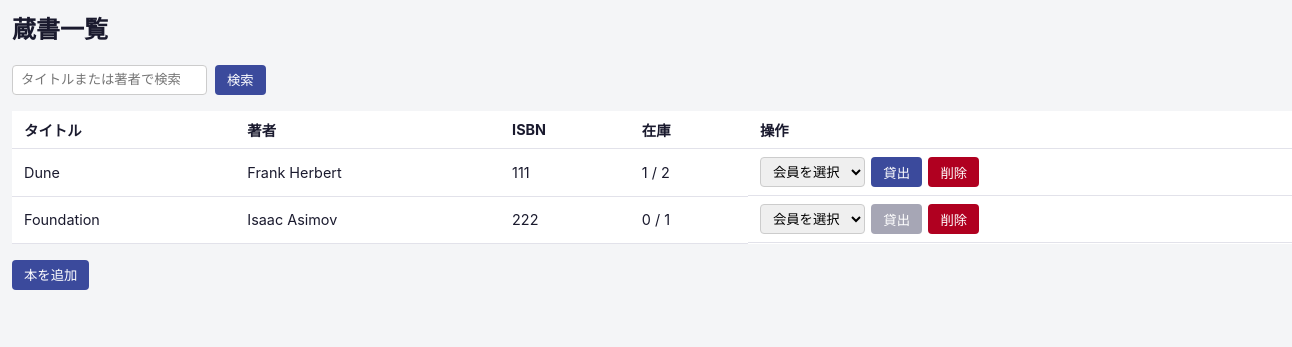
Test: BooksPage › shows a validation error when borrowing without selecting a member
The width and height of the screenshot is (1292, 347).
Expected: the text "Dune" is shown, [12,148,235,196]
Click the button "貸出" in the row of "Dune".
click(897, 172)  # box [871,157,922,187]
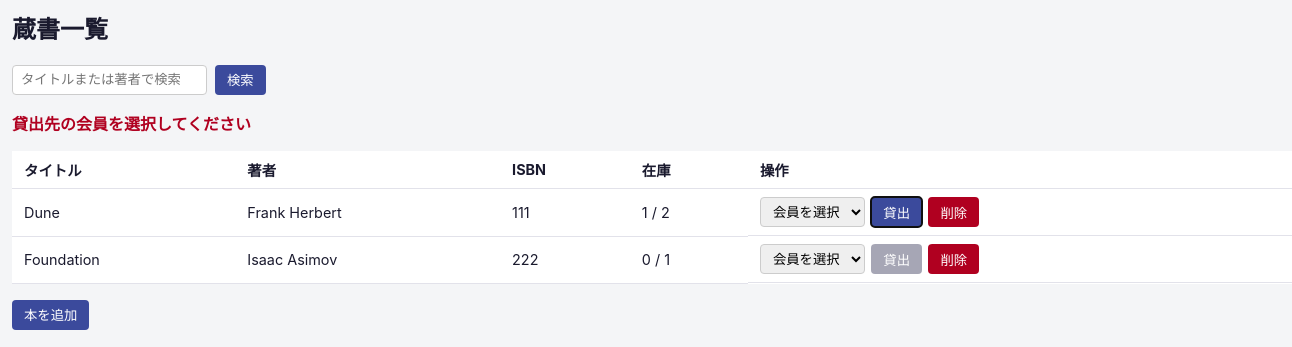
Expected: the text "貸出先の会員を選択してください" is shown, [12,114,251,134]
